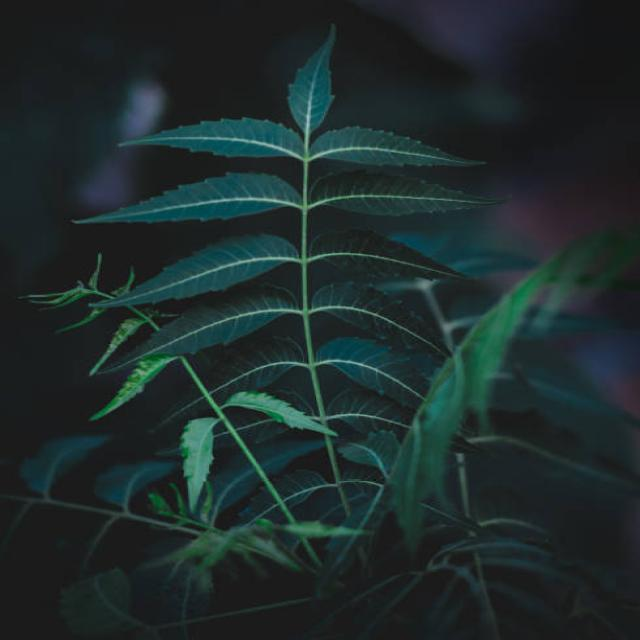Neem-Tree: (33, 29, 637, 640)
